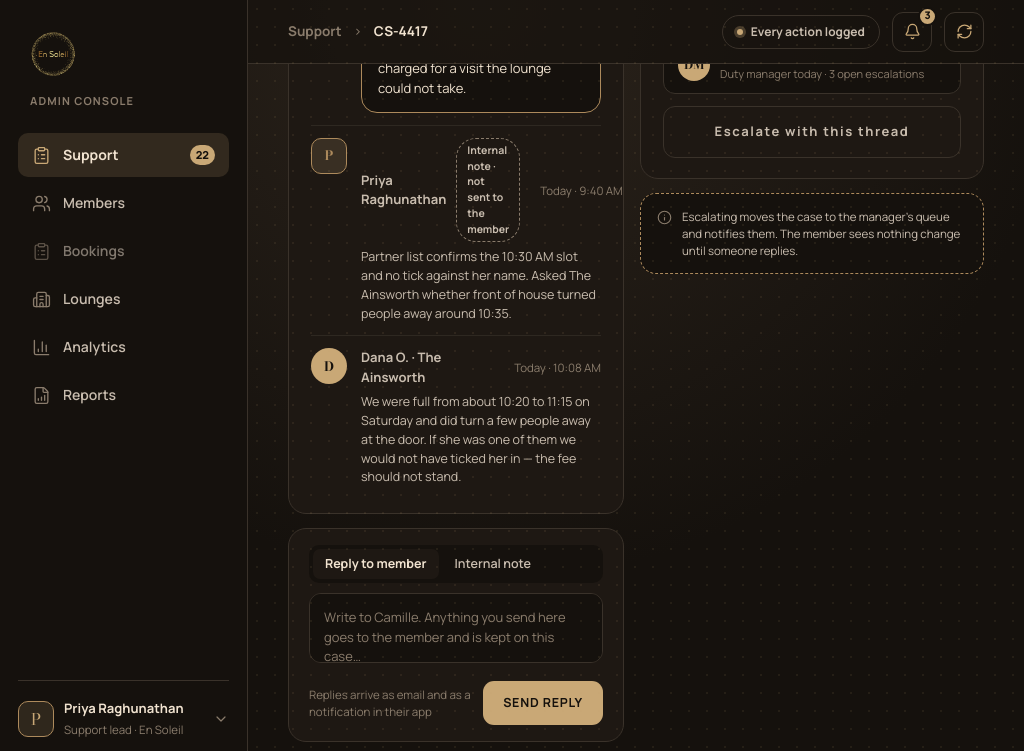
Test case: Case detail (/admin/support/[id]) › sends a reply to the member and appends it to the log
(page scrolled)
Type "We are waiving the fee." into the text box named "message".
click(456, 628); type("We are waiving the fee.")  # box [309,593,603,663]
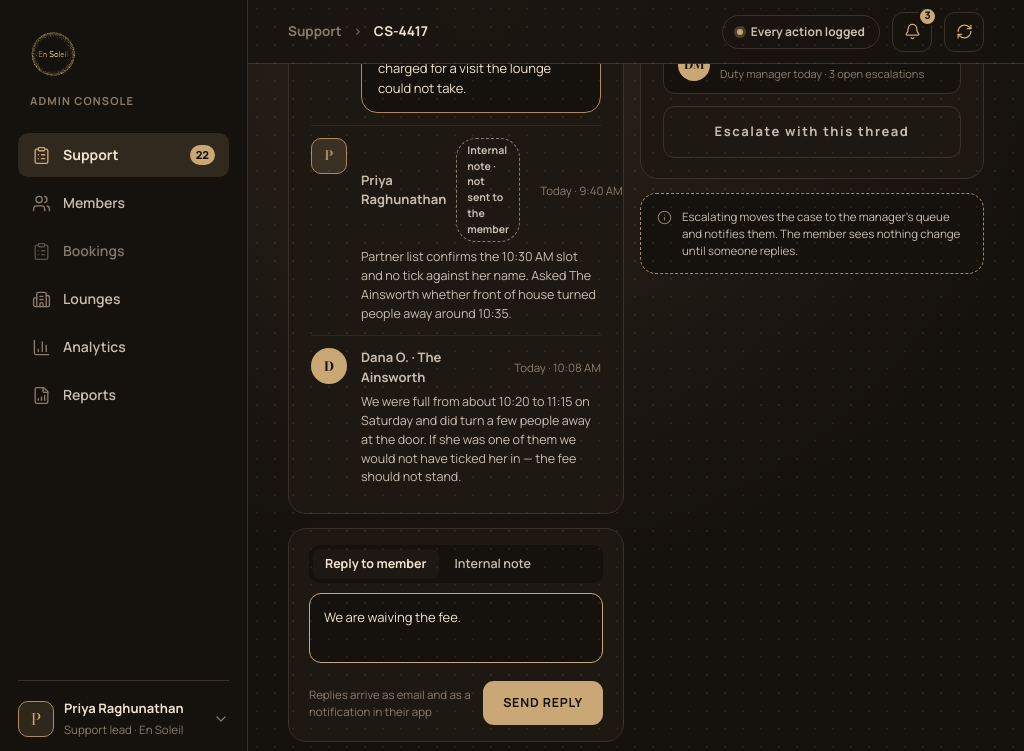
Click the button "Send reply".
click(543, 703)  # box [483,681,603,725]
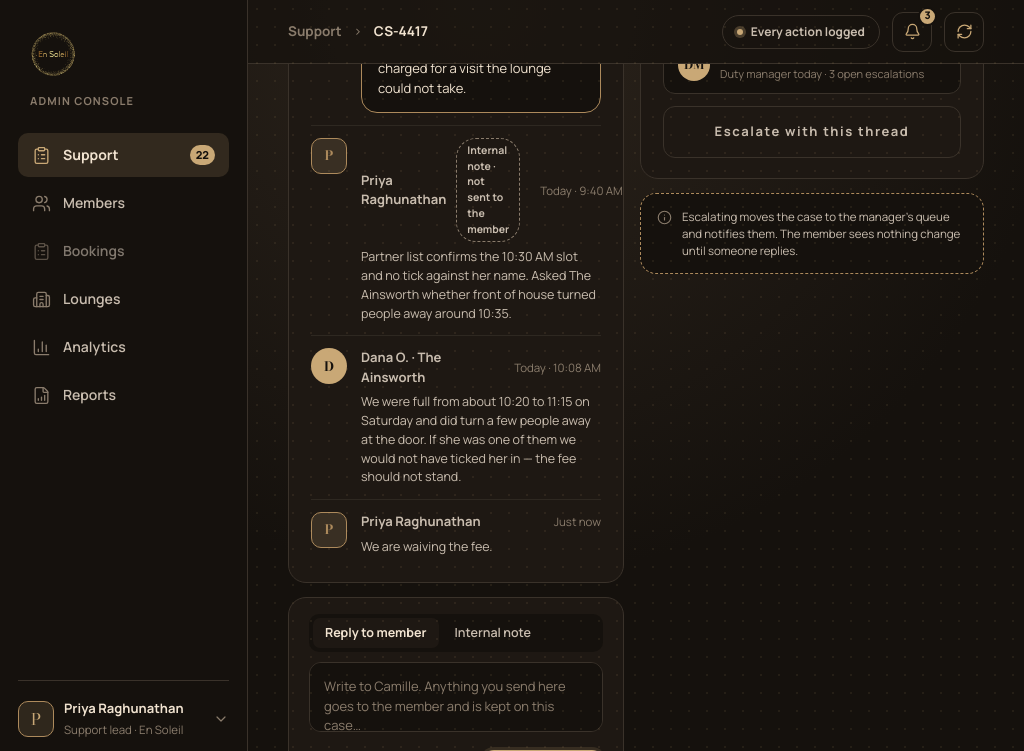
expect the text "We are waiving the fee." is shown: met, box [361,538,492,555]
